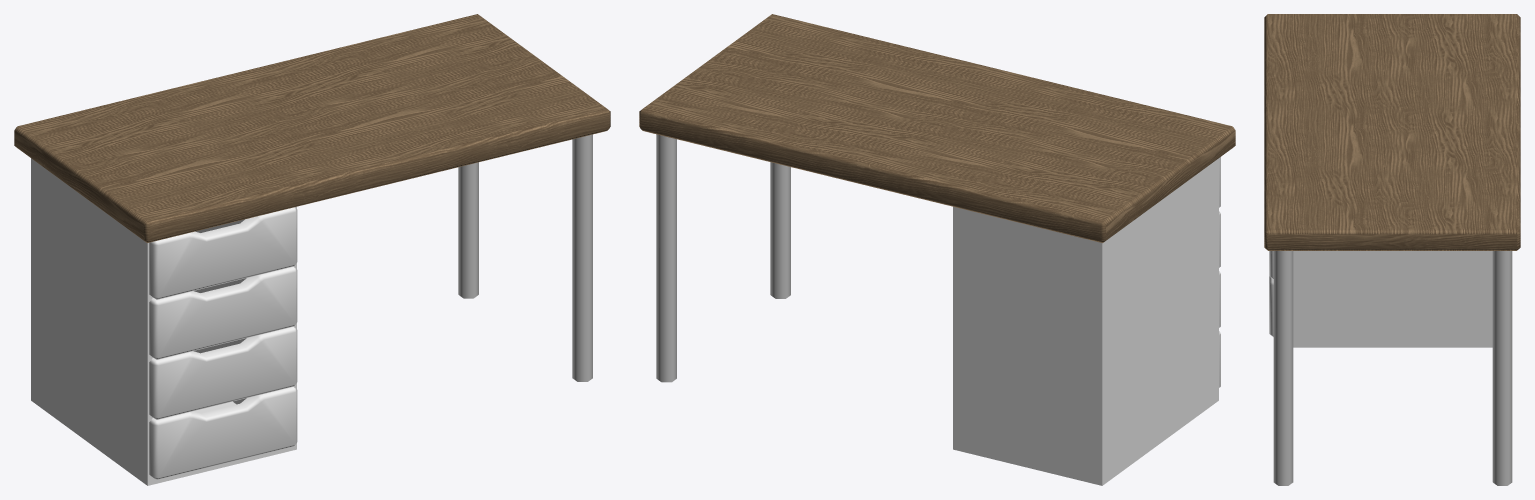
The model's file is work_table_003.fbx.
The picture shows the model from 3 angles, left to right: view 1: azimuth 30°, elevation 25°; view 2: azimuth 150°, elevation 25°; view 3: azimuth 270°, elevation 25°; orthographic projection. The views are drawn at different scales.
Parts seen in each view (by area): view 1: work_table_003; view 2: work_table_003; view 3: work_table_003.
Boxes of the visible parts, x1,y1,x2,y2 form: work_table_003: [14, 14, 610, 485]; work_table_003: [639, 14, 1235, 485]; work_table_003: [1264, 14, 1520, 485].
Size of the model in its own units: 165 by 81.5 by 91.5.
